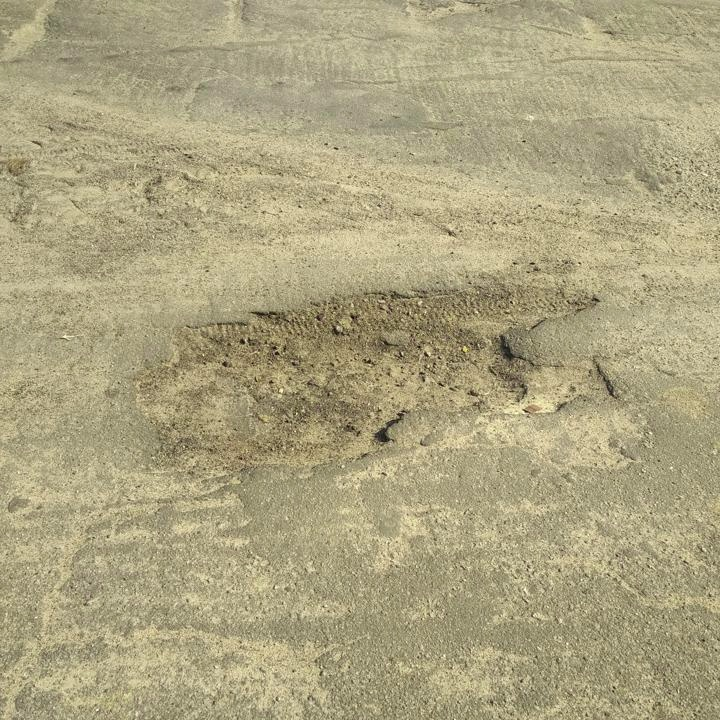pothole: (128, 273, 618, 479)
